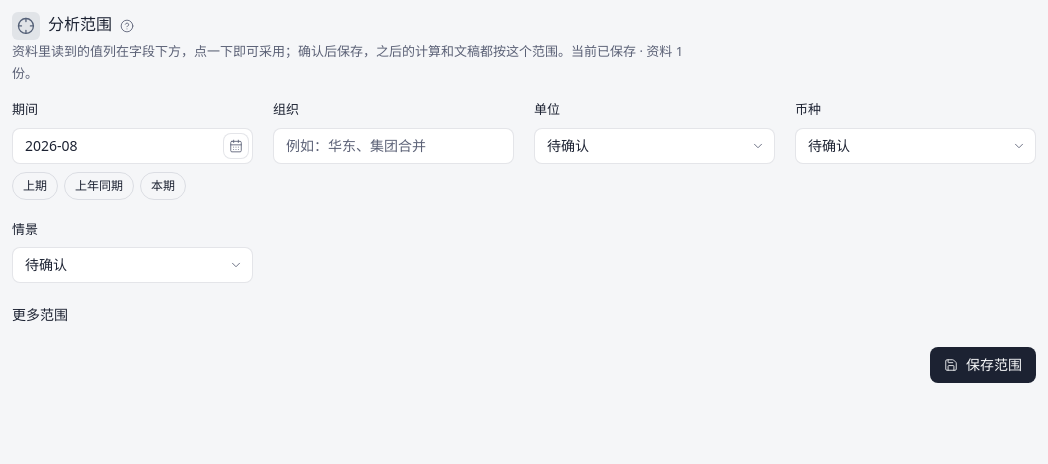
Test case: business result components › does not send duplicate saves while a scope save is already in flight
Expected: the field showing "2026-08" is shown, [12,128,253,164]
Click the button "保存范围".
click(983, 365)  # box [930,347,1036,383]
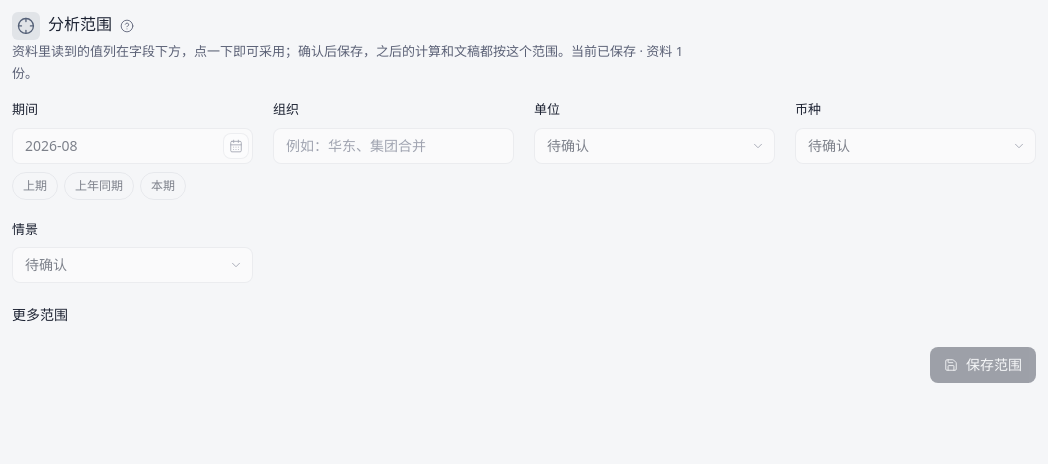
Click the button "保存范围".
click(983, 365)  # box [930,347,1036,383]
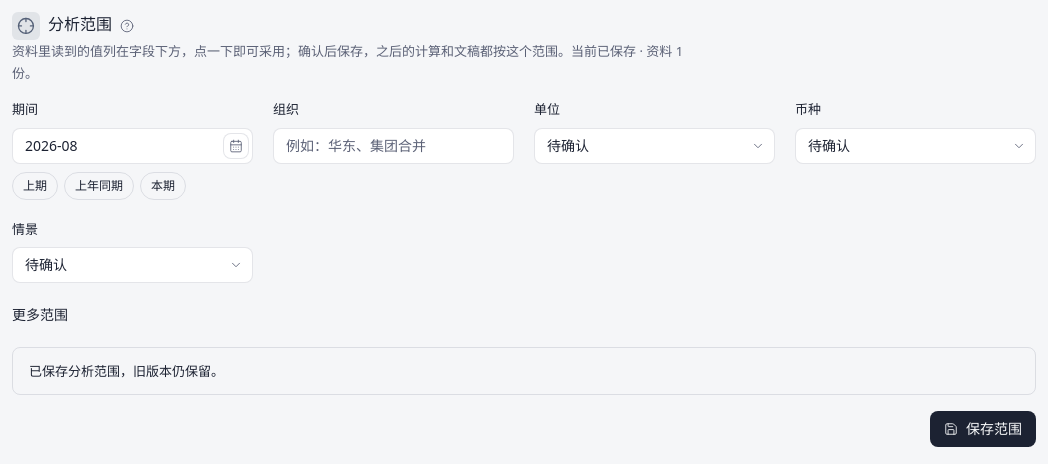
Result: the text "已保存分析范围，旧版本仍保留。" is shown at [12,347,1036,395]
